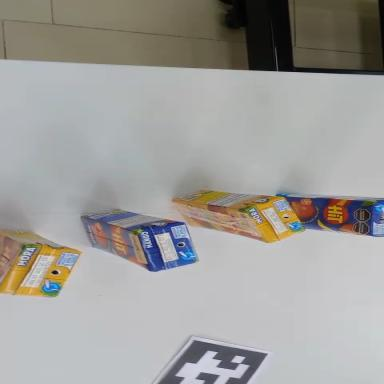HIT-MANGO: (74, 203, 204, 279), (274, 194, 384, 237)
HIT-MORA: (170, 187, 306, 246), (0, 230, 82, 300)
cara_F: (72, 213, 162, 271), (169, 201, 272, 243), (274, 195, 375, 236), (0, 231, 26, 287)
